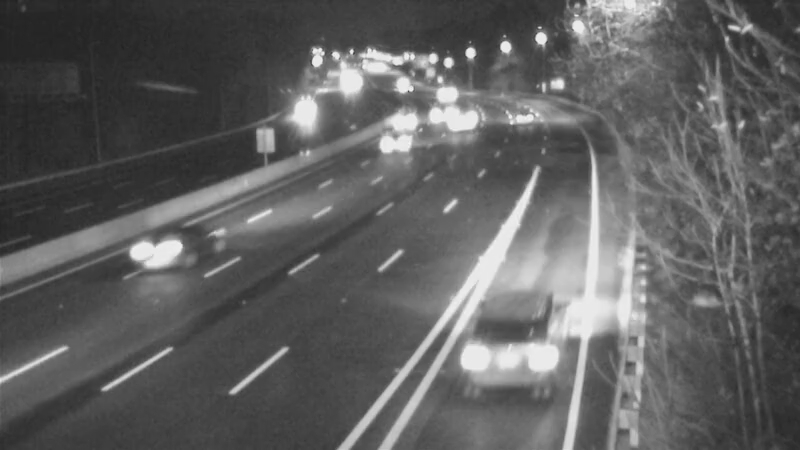vehicle: (451, 301, 561, 411), (124, 213, 204, 293), (417, 66, 467, 116), (417, 82, 467, 132), (430, 94, 480, 144), (380, 93, 430, 143), (493, 88, 543, 138), (372, 119, 422, 169), (273, 91, 323, 141)
